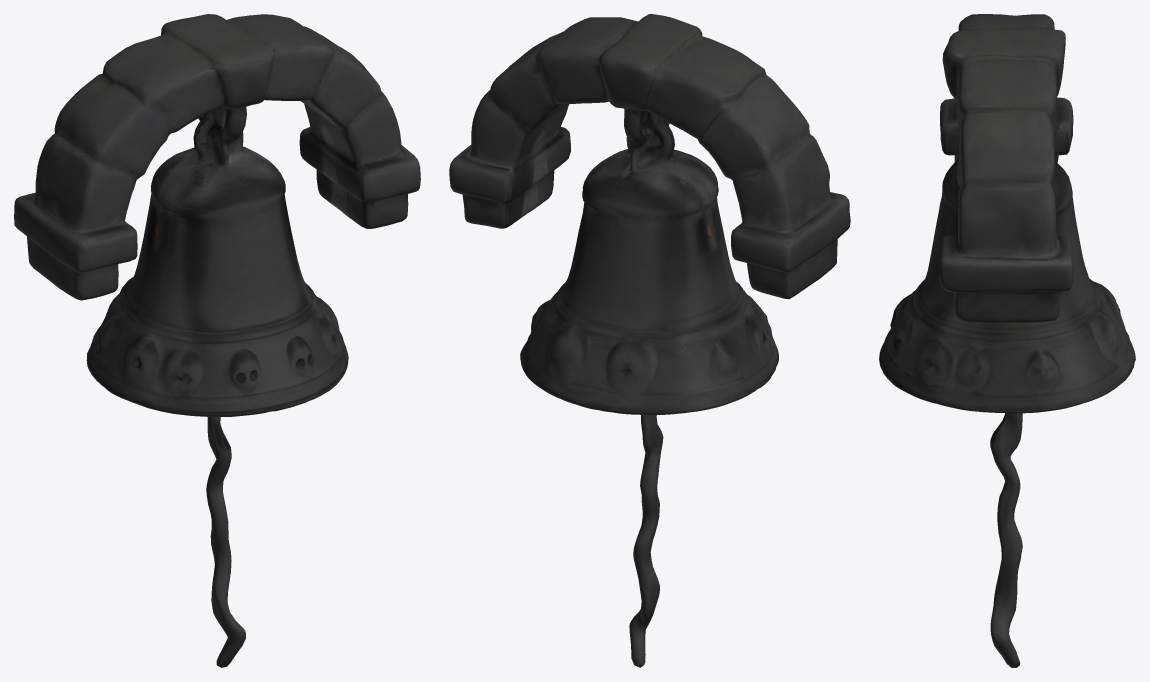
File: cursed_bell.glb
3 views of the same model, side by side, from view 1: azimuth 30°, elevation 25°; view 2: azimuth 150°, elevation 25°; view 3: azimuth 270°, elevation 25° (orthographic). The views are drawn at different scales.
Bounding box in the file's own units: 1.16 × 2 × 0.7463.
Materials: 1 (1 with a texture image).
